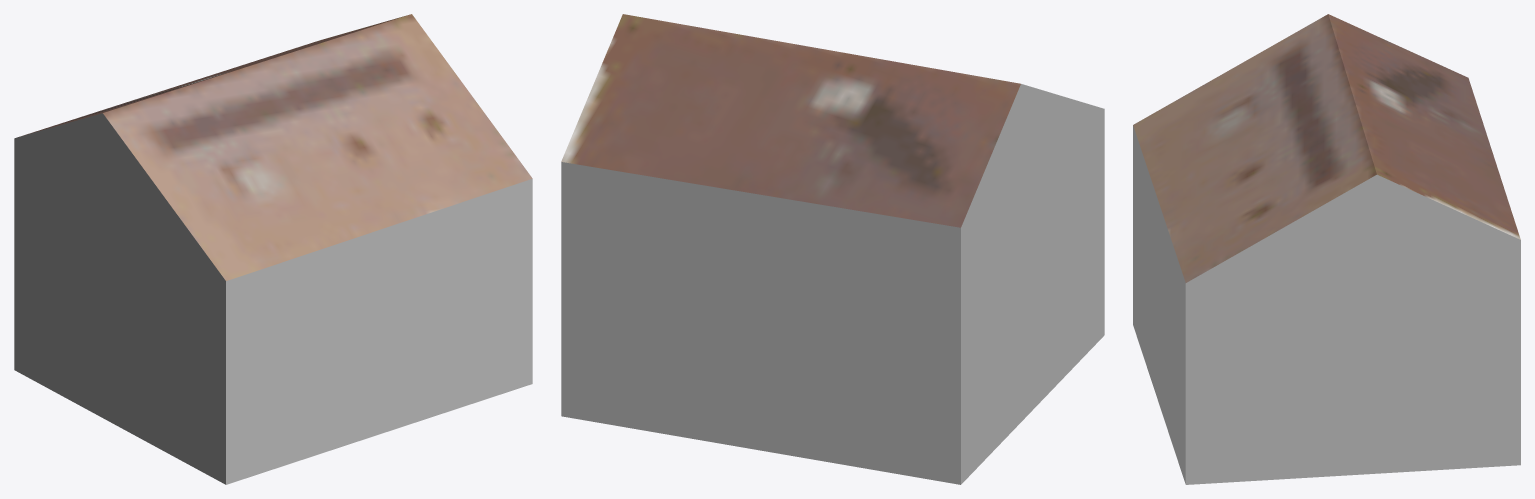
File: DEBW_0010007TxdA.gltf
3 renders of one model, left to right at view 1: azimuth 30°, elevation 25°; view 2: azimuth 150°, elevation 25°; view 3: azimuth 270°, elevation 25°, orthographic. The views are drawn at different scales.
Parts seen in each view (by area): view 1: Z_UP; view 2: Z_UP; view 3: Z_UP.
Boxes of the visible parts, <box> form: Z_UP: <box>14,14,532,484</box>; Z_UP: <box>561,14,1104,484</box>; Z_UP: <box>1133,14,1520,484</box>.
Bounding box in the file's own units: 13.38 × 10.41 × 12.21.
Materials: 2 (1 with a texture image).
